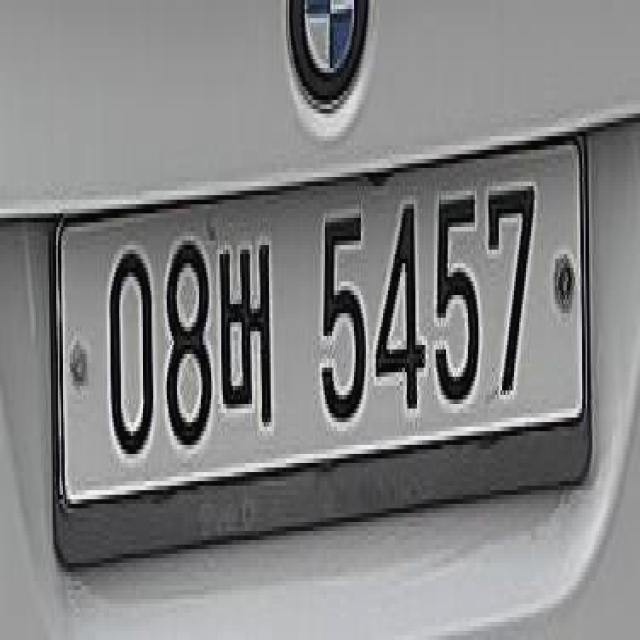illegal_plate: (41, 136, 602, 584)
